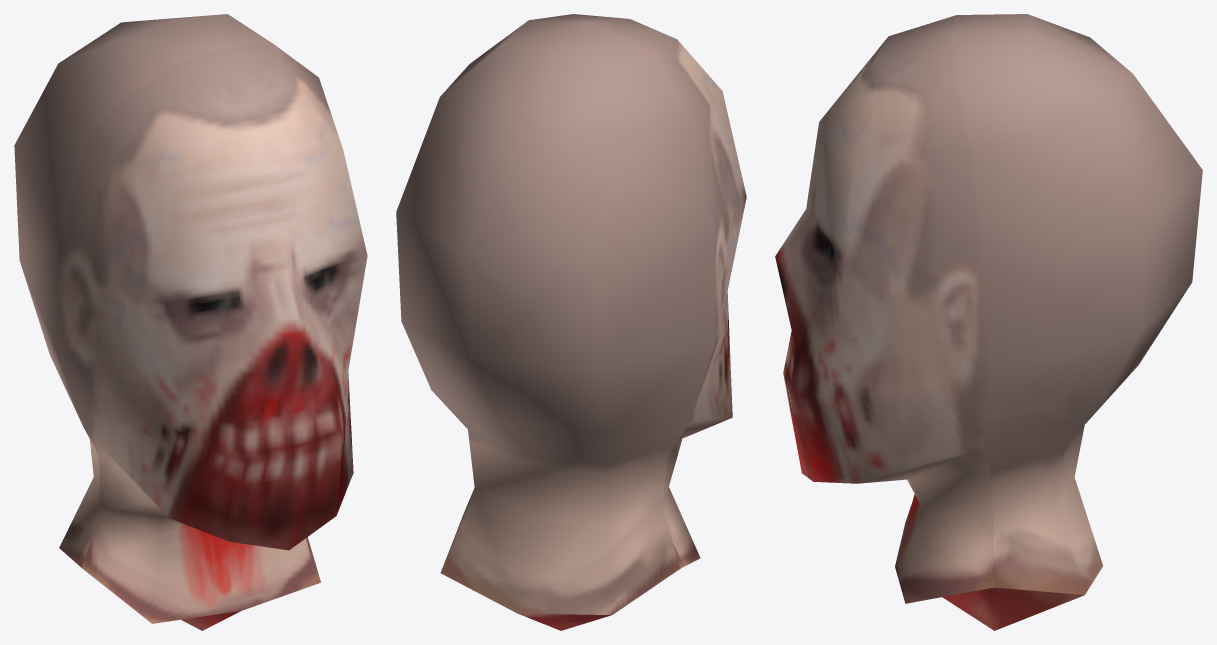
Rendered from Zombie_Head.fbx.
The picture shows the model from 3 angles, left to right: view 1: azimuth 30°, elevation 25°; view 2: azimuth 150°, elevation 25°; view 3: azimuth 270°, elevation 25°; orthographic projection.
Parts seen in each view (by area): view 1: Zombie_Head; view 2: Zombie_Head; view 3: Zombie_Head.
Boxes of the visible parts, x1=… form: Zombie_Head: x1=14, y1=14, x2=367, y2=630; Zombie_Head: x1=396, y1=14, x2=746, y2=630; Zombie_Head: x1=775, y1=14, x2=1202, y2=630.
Bounding box in the file's own units: 17.33 × 35.34 × 23.17.
